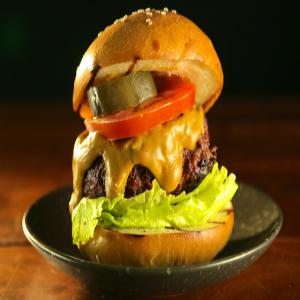cheeseburger_475cal: (25, 5, 247, 264)
